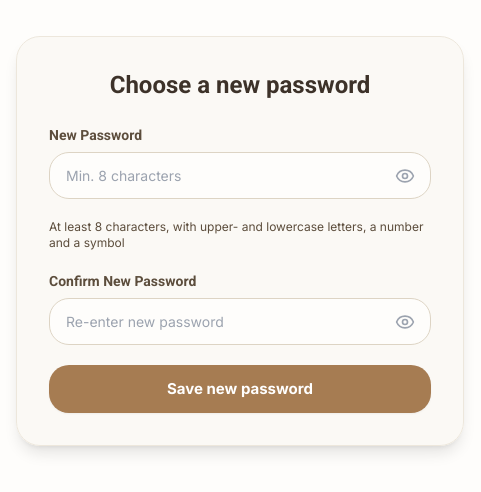
ResetPasswordPage › refuses passwords that do not match
This screenshot has width=481, height=492.
Type "Newpass1!" into the password field with placeholder "Min. 8 characters" at (240, 176), box [49,152,431,199]
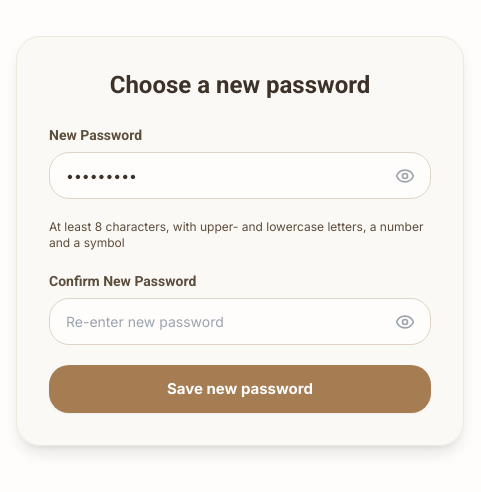
Type "Other123!" into the password field with placeholder "Re-enter new password" at (240, 322), box [49,298,431,345]
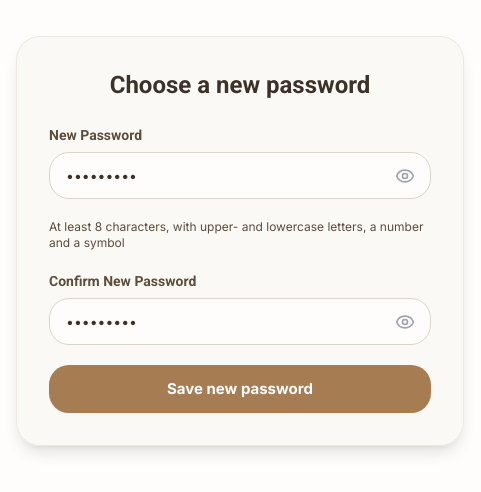
Click the button "Save new password" at (240, 389), box [49,365,431,413]
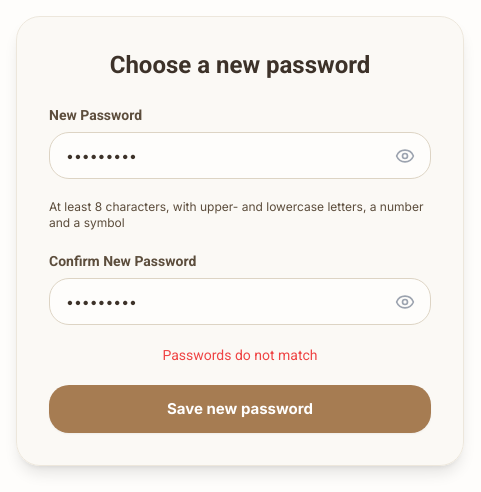
Result: the text "Passwords do not match" is shown at [162,347,318,363]
